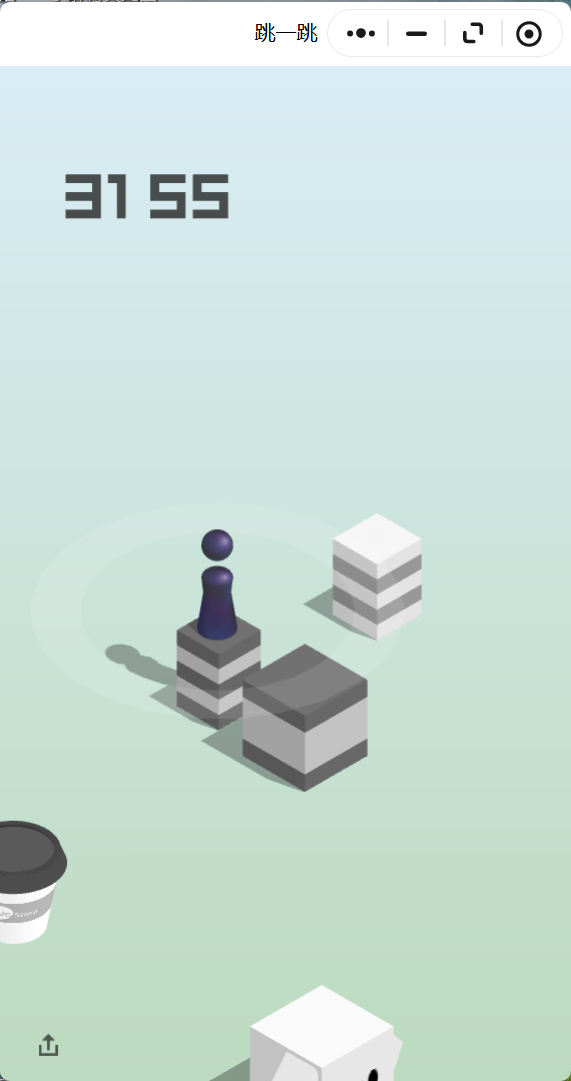piece: (201, 530, 232, 634)
target: (333, 513, 422, 561)
